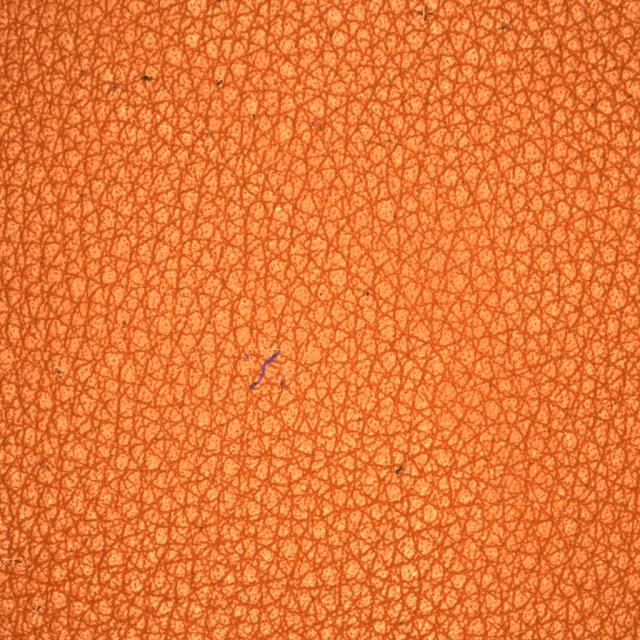Bacterial Injury: (200, 304, 333, 450)
pinhole: (60, 19, 275, 140), (342, 402, 456, 529)
